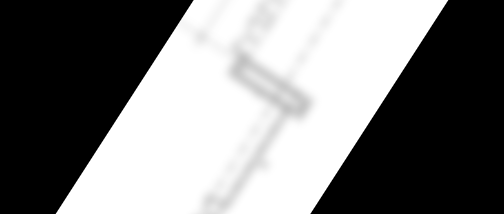double door: (228, 13, 272, 62), (253, 0, 297, 23), (187, 192, 229, 214)
